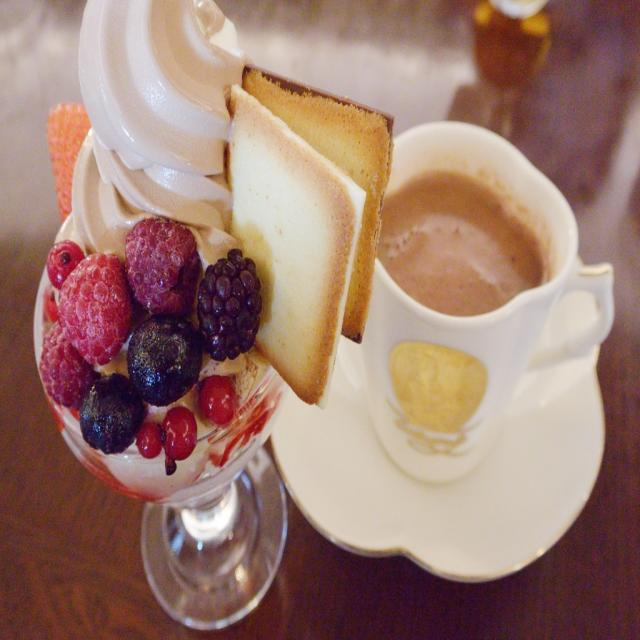Coffee: (362, 107, 594, 503)
